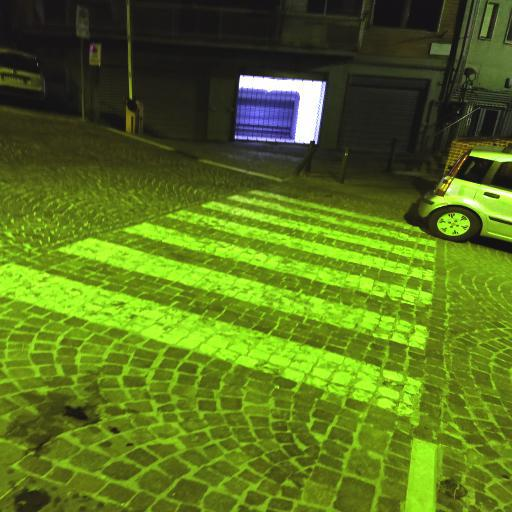crosswalk: (0, 235, 434, 420)
